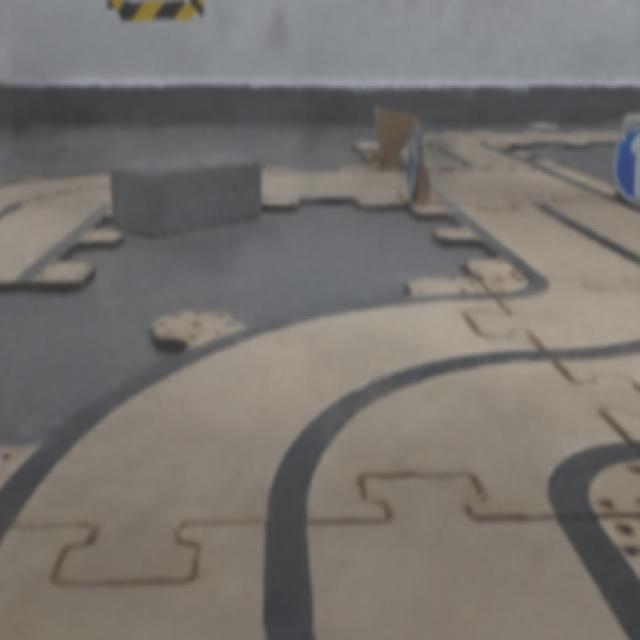STRAIGHT: (616, 128, 639, 204)
